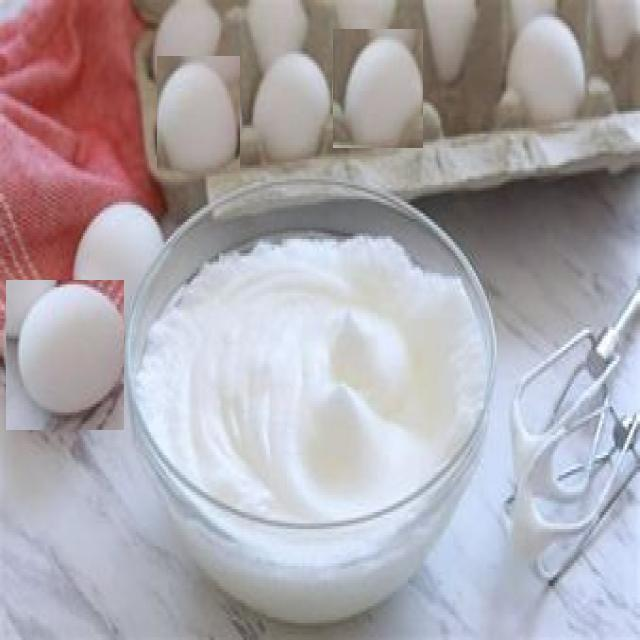Egg: (6, 280, 124, 430), (494, 15, 590, 128), (333, 29, 423, 148), (250, 49, 334, 172), (157, 56, 240, 171)
